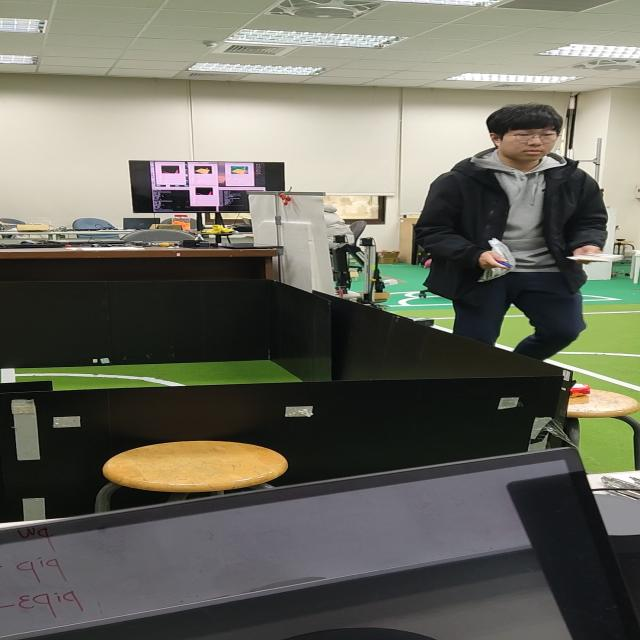person: (399, 86, 622, 367)
